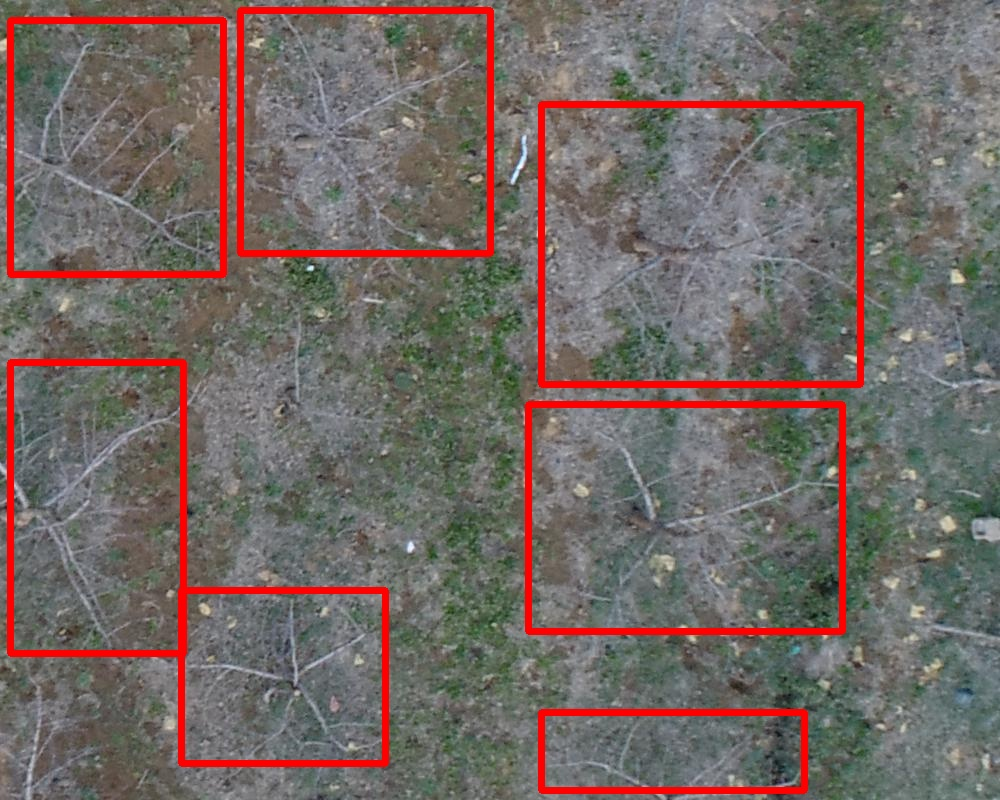apple: (541, 104, 860, 384), (528, 404, 842, 631), (240, 10, 490, 253), (10, 20, 223, 274), (10, 362, 183, 653), (181, 590, 385, 763), (541, 712, 804, 790)
